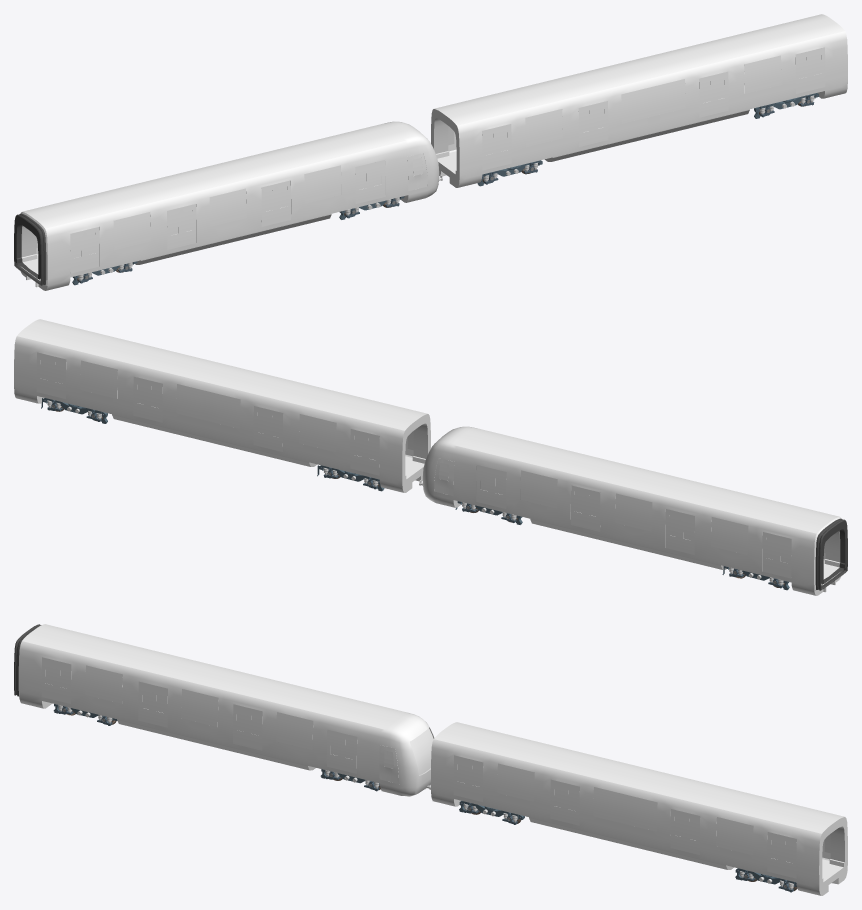
The model's file is metro-subway.glb.
3 renders of one model, top to bottom at view 1: azimuth 30°, elevation 25°; view 2: azimuth 150°, elevation 25°; view 3: azimuth 330°, elevation 25°, orthographic.
Visible parts, largest first — view 1: 前车头, 车厢, 固定窗.004, 后开门.003, 前开门.003, 后开窗.003, 前开窗.003, 立方体.010, 立方体.013; view 2: 前车头, 车厢, 固定窗.004, 后开门.003, 前开门.003, 后开窗.003, 前开窗.003, 立方体.010, 立方体.013; view 3: 前车头, 车厢, 固定窗.004, 前开门.003, 后开门.003, 前开窗.003, 后开窗.003, 立方体.013, 立方体.010.
Boxes of the visible parts, x1=… form: 前车头: x1=14, y1=121, x2=439, y2=290; 车厢: x1=431, y1=14, x2=847, y2=187; 固定窗.004: x1=525, y1=55, x2=781, y2=147; 后开门.003: x1=496, y1=47, x2=825, y2=166; 前开门.003: x1=454, y1=51, x2=810, y2=170; 后开窗.003: x1=500, y1=53, x2=821, y2=151; 前开窗.003: x1=486, y1=57, x2=806, y2=155; 立方体.010: x1=754, y1=93, x2=818, y2=118; 立方体.013: x1=477, y1=160, x2=542, y2=186; 前车头: x1=422, y1=426, x2=847, y2=595; 车厢: x1=14, y1=319, x2=430, y2=492; 固定窗.004: x1=80, y1=360, x2=336, y2=452; 后开门.003: x1=36, y1=352, x2=365, y2=471; 前开门.003: x1=51, y1=356, x2=407, y2=475; 后开窗.003: x1=40, y1=358, x2=361, y2=456; 前开窗.003: x1=55, y1=362, x2=375, y2=460; 立方体.010: x1=41, y1=398, x2=107, y2=423; 立方体.013: x1=317, y1=465, x2=384, y2=491; 前车头: x1=14, y1=624, x2=434, y2=796; 车厢: x1=431, y1=722, x2=847, y2=895; 固定窗.004: x1=497, y1=763, x2=753, y2=855; 前开门.003: x1=453, y1=755, x2=782, y2=874; 后开门.003: x1=468, y1=759, x2=824, y2=878; 前开窗.003: x1=457, y1=761, x2=778, y2=859; 后开窗.003: x1=472, y1=765, x2=792, y2=863; 立方体.013: x1=459, y1=801, x2=524, y2=824; 立方体.010: x1=735, y1=868, x2=796, y2=892.
Bounding box in the file's own units: 33.38 × 2.85 × 2.09.
